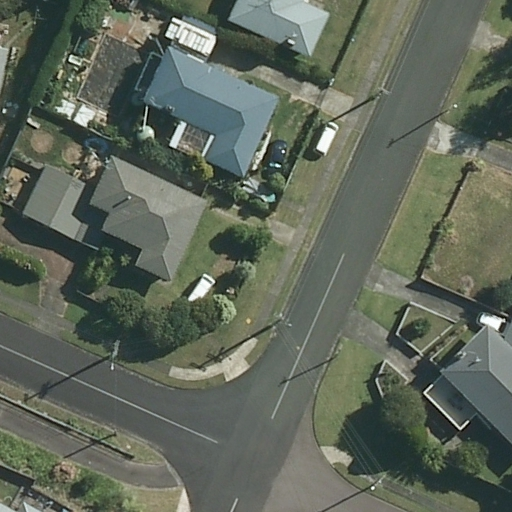DT: (270, 307, 292, 330), (107, 338, 119, 373), (371, 469, 388, 493)
